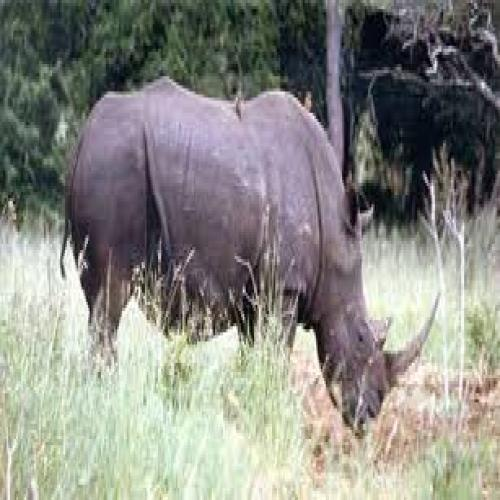rhino-endangered: (60, 77, 441, 441)
